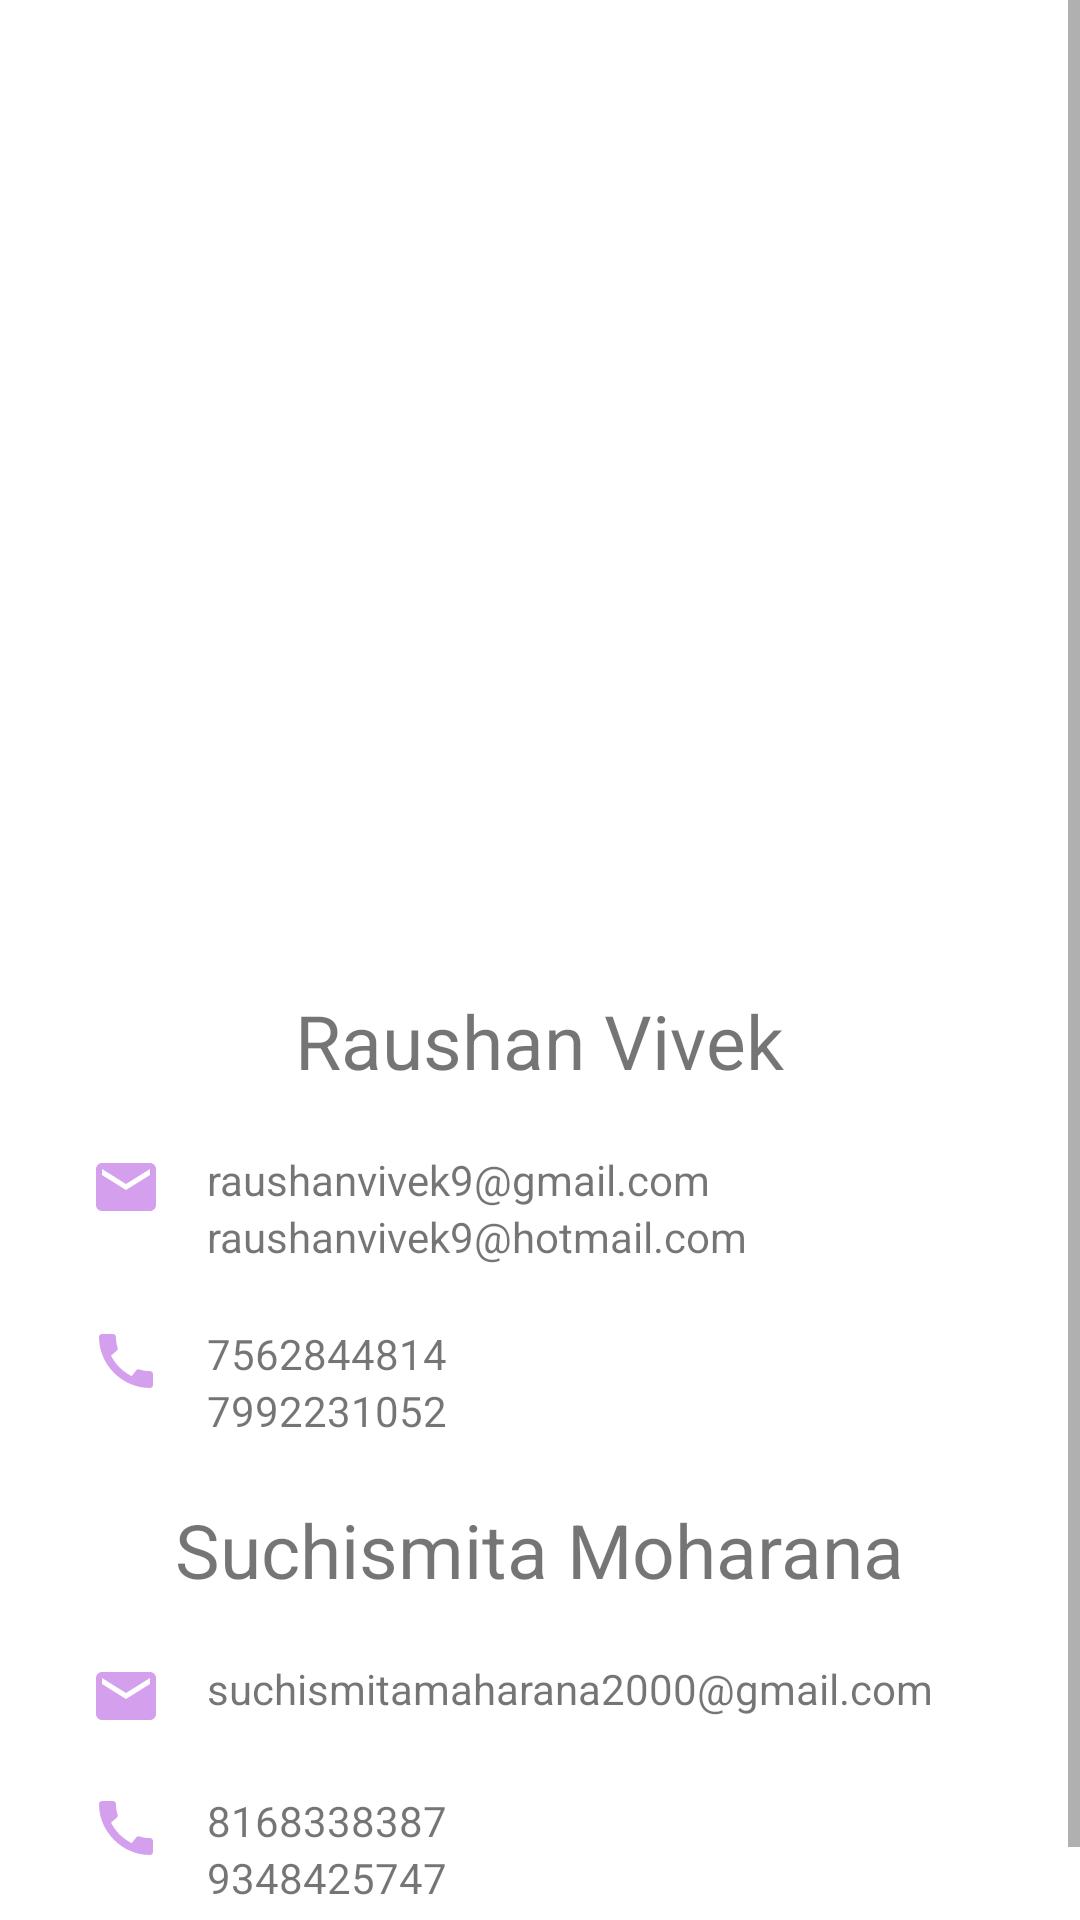

Screen size 1080*1920. Icon name, then its box in pixels as (left=x1, top=y1, right=x2, bottom=y2):
call: (left=99, top=1334, right=153, bottom=1388), (left=99, top=1801, right=153, bottom=1855)
email: (left=96, top=1163, right=156, bottom=1211), (left=96, top=1672, right=156, bottom=1720)
